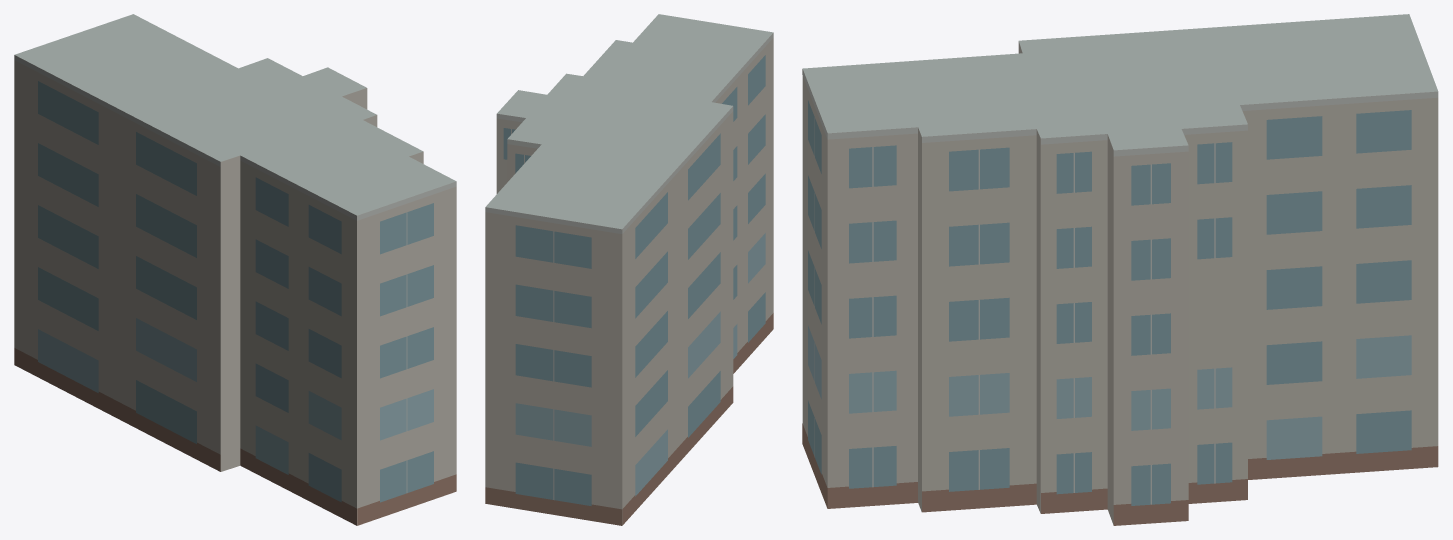
The model's file is survey-upis-32975399.glb.
The picture shows the model from 3 angles, left to right: view 1: azimuth 30°, elevation 25°; view 2: azimuth 150°, elevation 25°; view 3: azimuth 270°, elevation 25°; orthographic projection. The views are drawn at different scales.
Parts seen in each view (by area): view 1: survey-upis-32975399.tmp; view 2: survey-upis-32975399.tmp; view 3: survey-upis-32975399.tmp.
Boxes of the visible parts, left/top/right/bottom form: survey-upis-32975399.tmp: left=14, top=14, right=456, bottom=525; survey-upis-32975399.tmp: left=485, top=14, right=773, bottom=525; survey-upis-32975399.tmp: left=802, top=14, right=1438, bottom=525.
Bounding box in the file's own units: 11.54 × 14.8 × 22.72.
